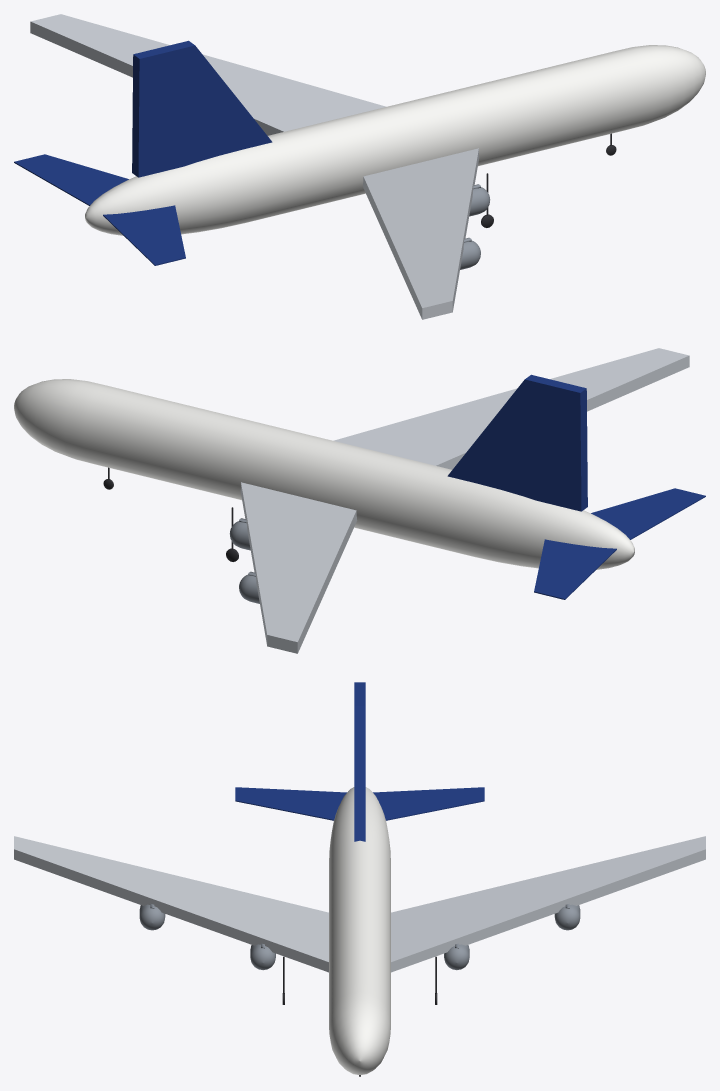
3 views of the same model, one above another, from view 1: azimuth 30°, elevation 25°; view 2: azimuth 150°, elevation 25°; view 3: azimuth 270°, elevation 25° (orthographic). The views are drawn at different scales.
Visible parts, largest first — view 1: fuselage, wings, tail, engines; view 2: fuselage, wings, tail, engines; view 3: wings, fuselage, tail, engines.
Part boxes in pixels (x1,y1,x2,y2): fuselage: [85, 45, 705, 235]; wings: [30, 14, 479, 319]; tail: [14, 40, 272, 265]; engines: [460, 184, 490, 269]; fuselage: [14, 379, 634, 569]; wings: [240, 348, 689, 653]; tail: [447, 374, 705, 599]; engines: [229, 518, 259, 603]; wings: [14, 836, 705, 972]; fuselage: [329, 787, 390, 1075]; tail: [235, 682, 484, 841]; engines: [139, 903, 580, 970].
Size of the model in its own units: 72.86 by 24.09 by 79.8.
